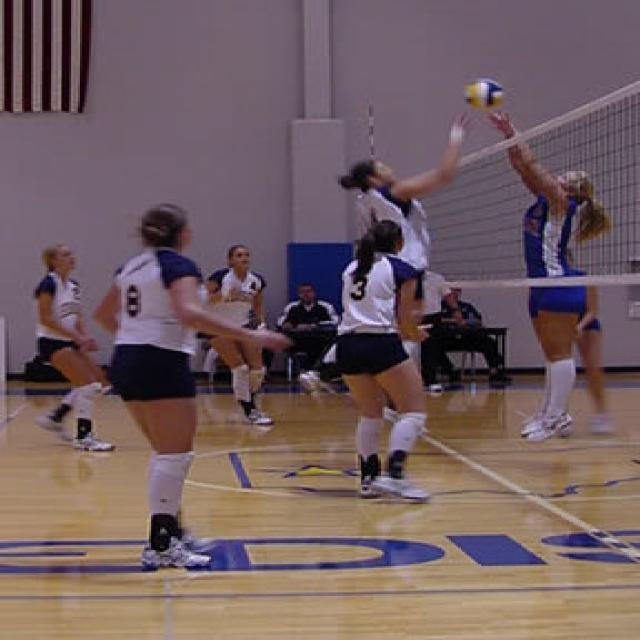volleyball: (464, 75, 504, 112)
